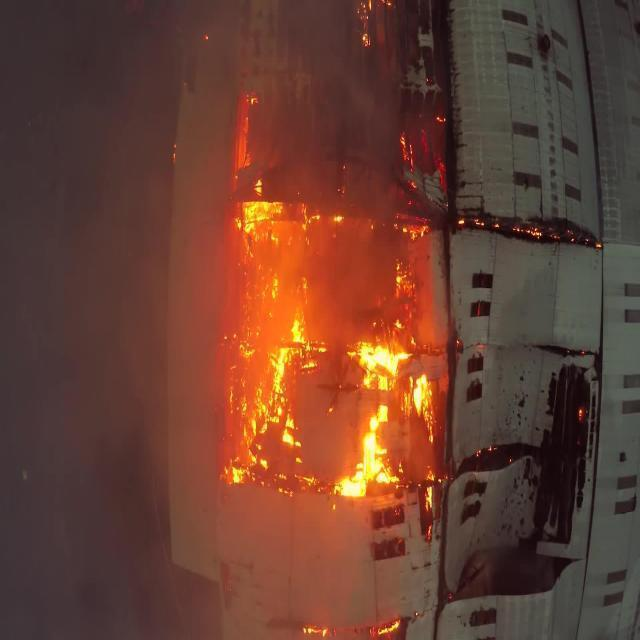Fire: (223, 135, 450, 534), (242, 306, 318, 474)
